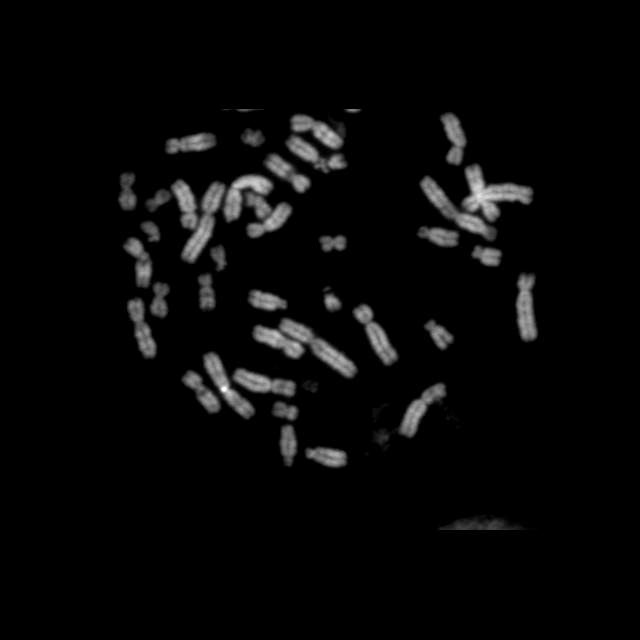chromosome: (421, 175, 497, 241), (278, 318, 358, 379), (180, 181, 225, 263), (203, 352, 255, 421), (353, 302, 397, 366), (399, 380, 446, 438), (224, 173, 274, 221), (461, 184, 533, 214), (465, 164, 499, 222), (290, 113, 342, 149), (264, 154, 310, 192), (127, 300, 157, 358), (233, 368, 295, 396), (252, 326, 304, 359), (246, 202, 292, 238), (182, 372, 220, 414), (516, 272, 538, 342), (123, 237, 152, 290), (440, 113, 466, 165), (171, 180, 197, 230), (285, 134, 323, 168), (165, 132, 215, 154), (419, 226, 459, 248), (304, 447, 348, 467), (425, 319, 453, 349), (117, 173, 138, 210), (248, 291, 286, 311), (150, 281, 170, 317), (247, 192, 271, 220), (280, 426, 296, 466), (145, 188, 171, 212), (471, 246, 502, 266), (198, 275, 215, 309), (210, 244, 228, 272), (319, 234, 346, 252), (323, 286, 341, 312), (272, 404, 298, 421), (141, 220, 161, 242), (241, 128, 265, 146), (322, 154, 344, 172), (372, 428, 388, 446)
